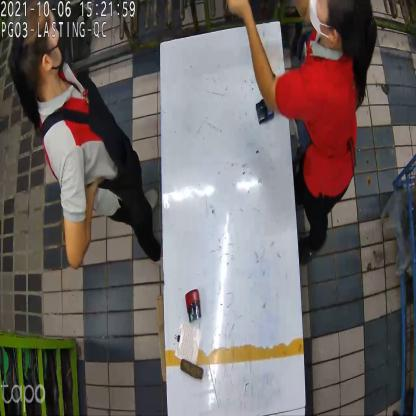stamp: (184, 290, 204, 326), (254, 97, 272, 126)
